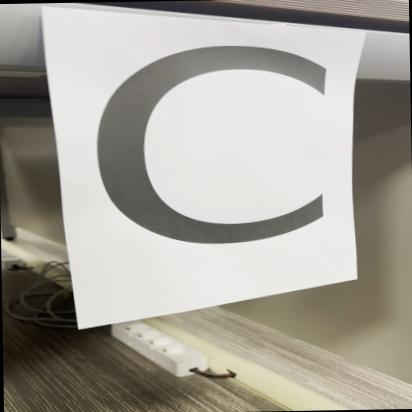seat: (54, 25, 344, 278), (164, 107, 180, 123)
